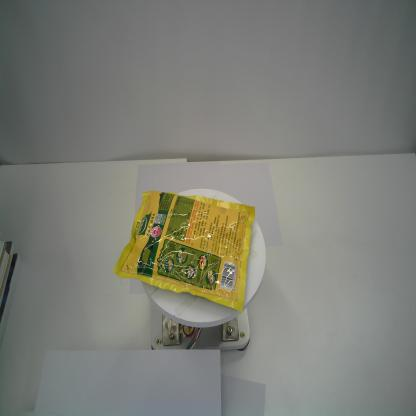Seasoner: (110, 188, 257, 315)
